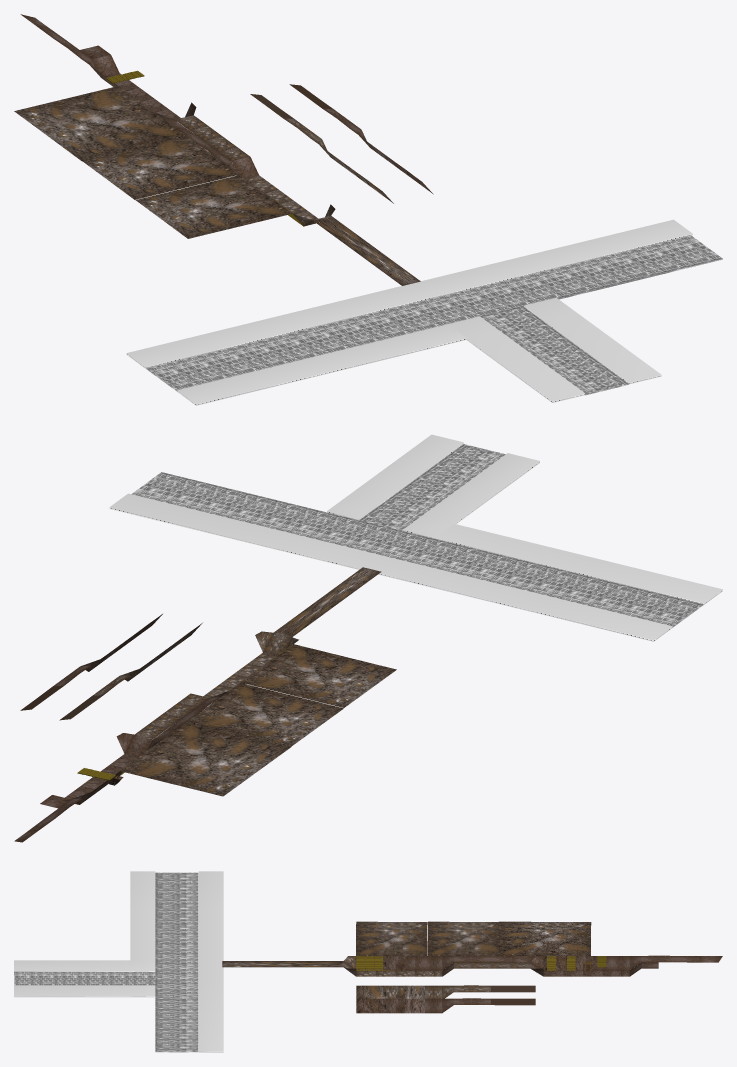
The model's file is trincheira.fbx.
3 views of the same model, one above another, from view 1: azimuth 30°, elevation 25°; view 2: azimuth 150°, elevation 25°; view 3: azimuth 270°, elevation 25° (orthographic). The views are drawn at different scales.
Visible parts, largest first — view 1: Cube.011, Plane.002, Cube.007, Cube.010, Cube, Cube.006, Plane.003, Plane.004, Cube.008, Cube.009, Cube.012, Plane.011 (+5 smaller); view 2: Cube.011, Plane.002, Cube.010, Cube.006, Cube, Cube.007, Plane.003, Plane.004, Cube.008, Cube.009, Cube.012, Plane (+5 smaller); view 3: Cube.011, Plane.002, Cube.007, Cube.006, Cube, Plane.003, Plane.004, Cube.010, Plane.007, Plane.006, Cube.008, Cube.012 (+6 smaller).
Boxes of the visible parts, bbox=[...] form: Cube.011: bbox=[126, 219, 692, 368]; Plane.002: bbox=[14, 86, 185, 161]; Cube.007: bbox=[510, 235, 722, 301]; Cube.010: bbox=[177, 324, 466, 405]; Cube: bbox=[328, 279, 539, 345]; Cube.006: bbox=[146, 324, 357, 391]; Plane.003: bbox=[135, 175, 292, 238]; Plane.004: bbox=[83, 136, 238, 199]; Cube.008: bbox=[482, 307, 628, 395]; Cube.009: bbox=[448, 316, 584, 402]; Cube.012: bbox=[524, 297, 661, 384]; Plane.011: bbox=[312, 216, 420, 285]; Cube.011: bbox=[109, 493, 672, 641]; Plane.002: bbox=[120, 721, 291, 796]; Cube.010: bbox=[435, 524, 722, 604]; Cube.006: bbox=[493, 560, 703, 627]; Cube: bbox=[312, 516, 522, 582]; Cube.007: bbox=[131, 472, 341, 537]; Plane.003: bbox=[240, 644, 396, 707]; Plane.004: bbox=[187, 683, 343, 746]; Cube.008: bbox=[360, 444, 505, 530]; Cube.009: bbox=[403, 453, 539, 538]; Cube.012: bbox=[327, 434, 463, 520]; Plane: bbox=[178, 631, 298, 706]; Cube.011: bbox=[198, 871, 223, 1052]; Plane.002: bbox=[498, 921, 591, 956]; Cube.007: bbox=[155, 992, 198, 1052]; Cube.006: bbox=[155, 872, 198, 932]; Cube: bbox=[155, 932, 198, 992]; Plane.003: bbox=[356, 921, 427, 956]; Plane.004: bbox=[427, 921, 499, 956]; Cube.010: bbox=[130, 871, 155, 960]; Plane.007: bbox=[356, 998, 535, 1013]; Plane.006: bbox=[356, 985, 535, 998]; Cube.008: bbox=[14, 972, 155, 985]; Cube.012: bbox=[14, 985, 155, 997].
Bounding box in the file's own units: 2449 × 74.59 × 4081.
19 materials, 13 textured.
